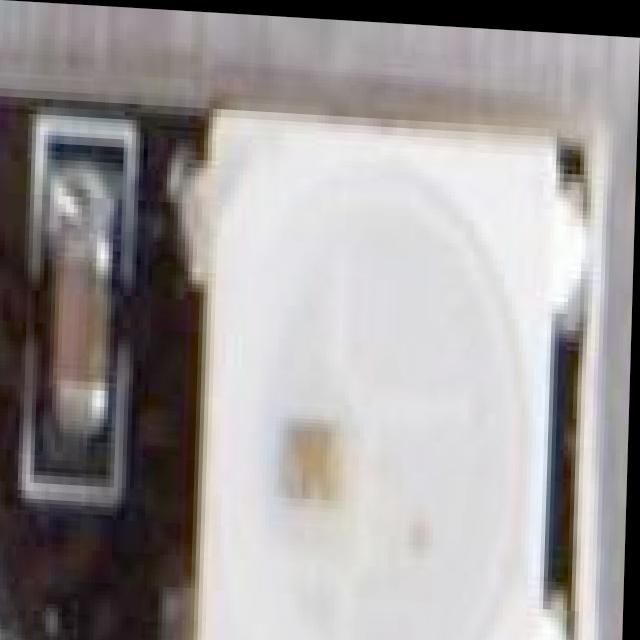LED: (217, 87, 606, 640)
buzzer: (0, 132, 81, 640)
capacitor: (32, 128, 157, 435)
